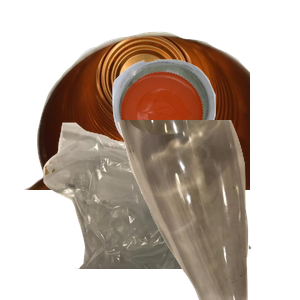glass: (115, 120, 300, 300)
metal: (21, 29, 261, 209)
plastic: (110, 57, 300, 205)
trash: (41, 120, 276, 300)
